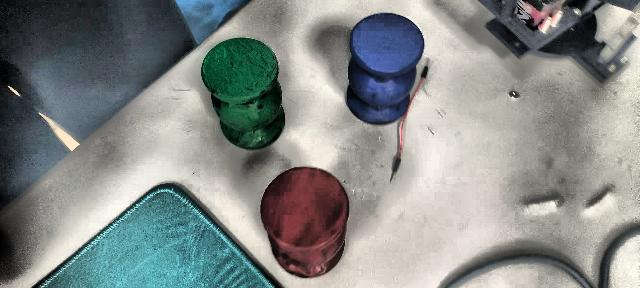blue: (346, 12, 424, 124)
green: (200, 37, 286, 150)
red: (258, 167, 351, 284)
